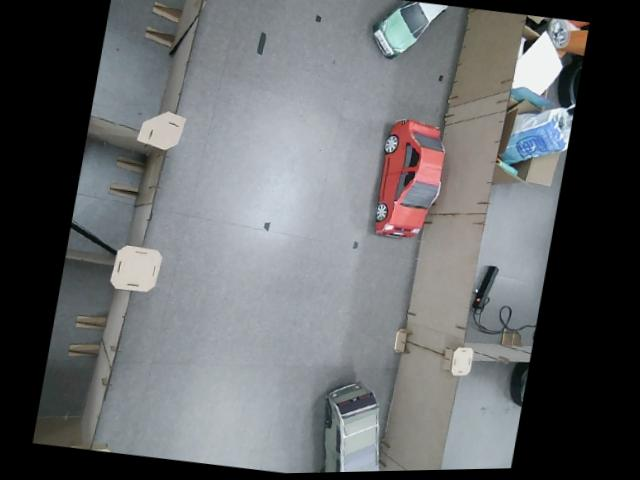car: (369, 114, 451, 242), (311, 375, 393, 473), (369, 0, 452, 63)
